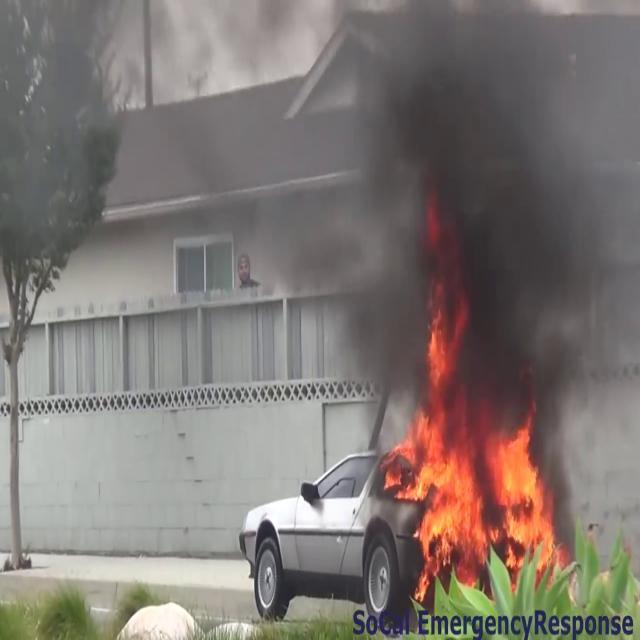Fire: (388, 393, 560, 591)
Smoke: (340, 0, 640, 436)
